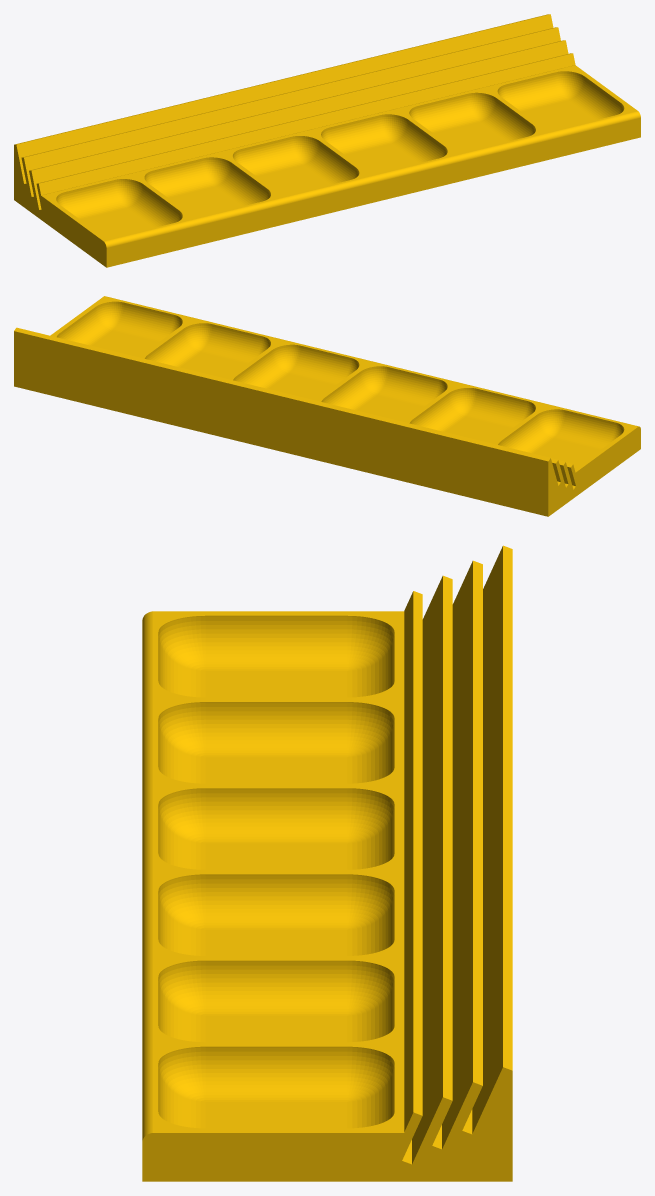
The model's file is organizer.glb.
3 views of the same model, one above another, from view 1: azimuth 30°, elevation 25°; view 2: azimuth 150°, elevation 25°; view 3: azimuth 270°, elevation 25° (orthographic). The views are drawn at different scales.
Visible parts, largest first — view 1: Spieler Organizer - gesamt.stl_fil1; view 2: Spieler Organizer - gesamt.stl_fil1; view 3: Spieler Organizer - gesamt.stl_fil1.
Part boxes in pixels (x1,y1,x2,y2): Spieler Organizer - gesamt.stl_fil1: [14, 14, 640, 267]; Spieler Organizer - gesamt.stl_fil1: [14, 296, 640, 516]; Spieler Organizer - gesamt.stl_fil1: [142, 545, 512, 1181].
Size of the model in its own units: 0.23 by 0.0235 by 0.069.
